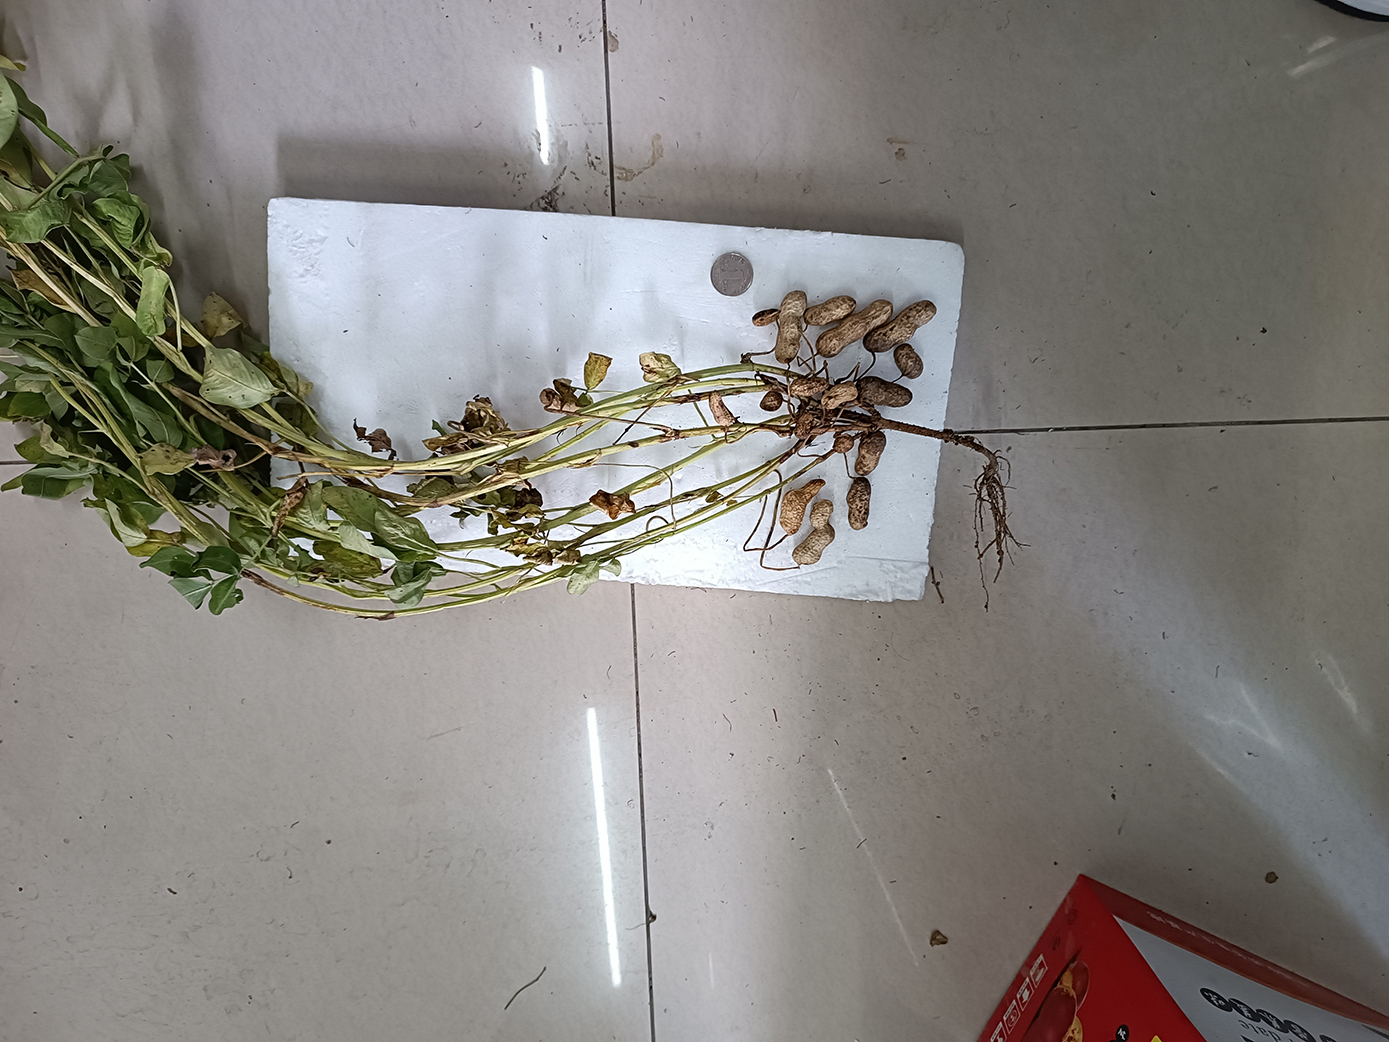h: (817, 300, 894, 359), (863, 301, 937, 354), (792, 500, 835, 568), (780, 478, 827, 535), (777, 291, 806, 364), (805, 296, 857, 325), (707, 390, 740, 433), (847, 478, 872, 530), (856, 431, 884, 476), (823, 382, 858, 410), (789, 377, 825, 398), (752, 309, 780, 326), (833, 432, 852, 454)
l: (857, 377, 913, 407), (895, 345, 922, 378), (760, 391, 780, 412)
